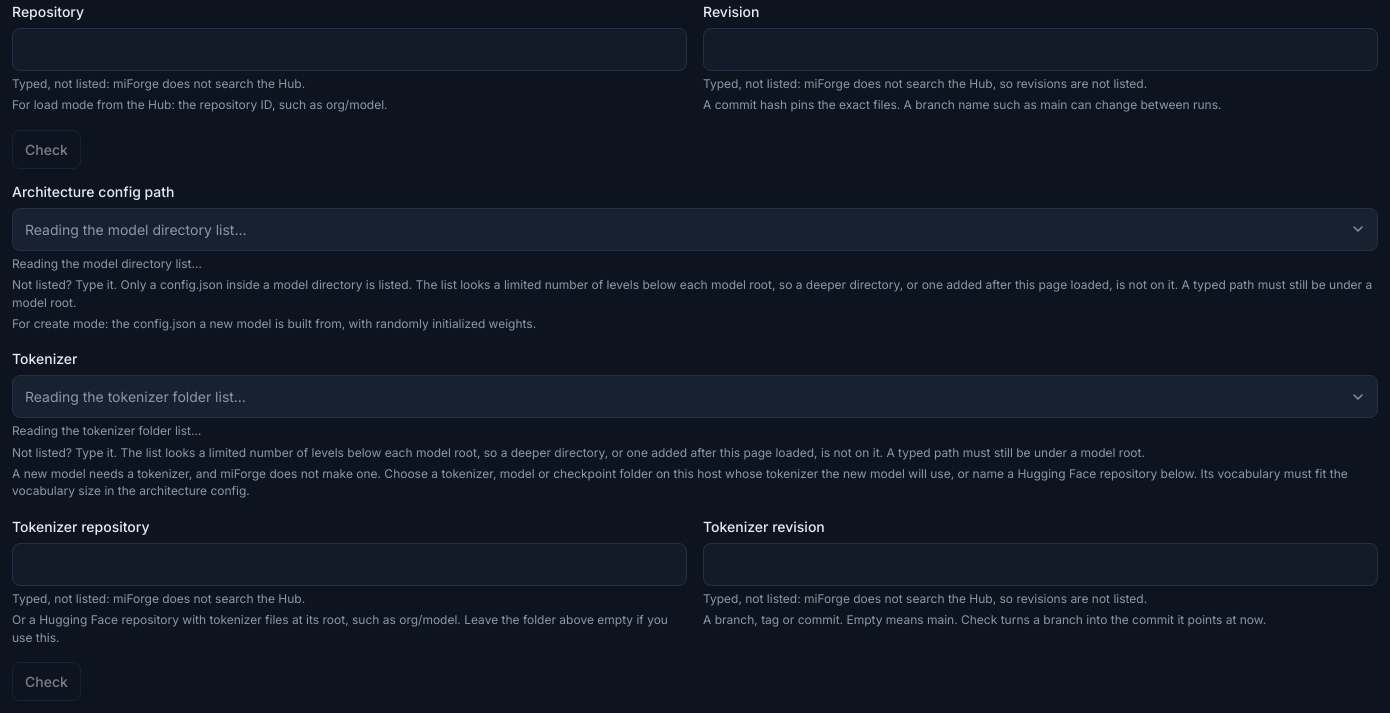
Test case: [ModelSourceField] the tokenizer is asked for on a create, and only there › should resolve a Hub revision to its commit on Check, and pin it on request
(page scrolled)
Expected: the button with test id "tokenizer-hub-check-button" is disabled, [12,662,81,701]
Type " org/tok " into the field with test id "tokenizer-repo-input".
click(350, 564); type(" org/tok ")  # box [12,543,687,586]
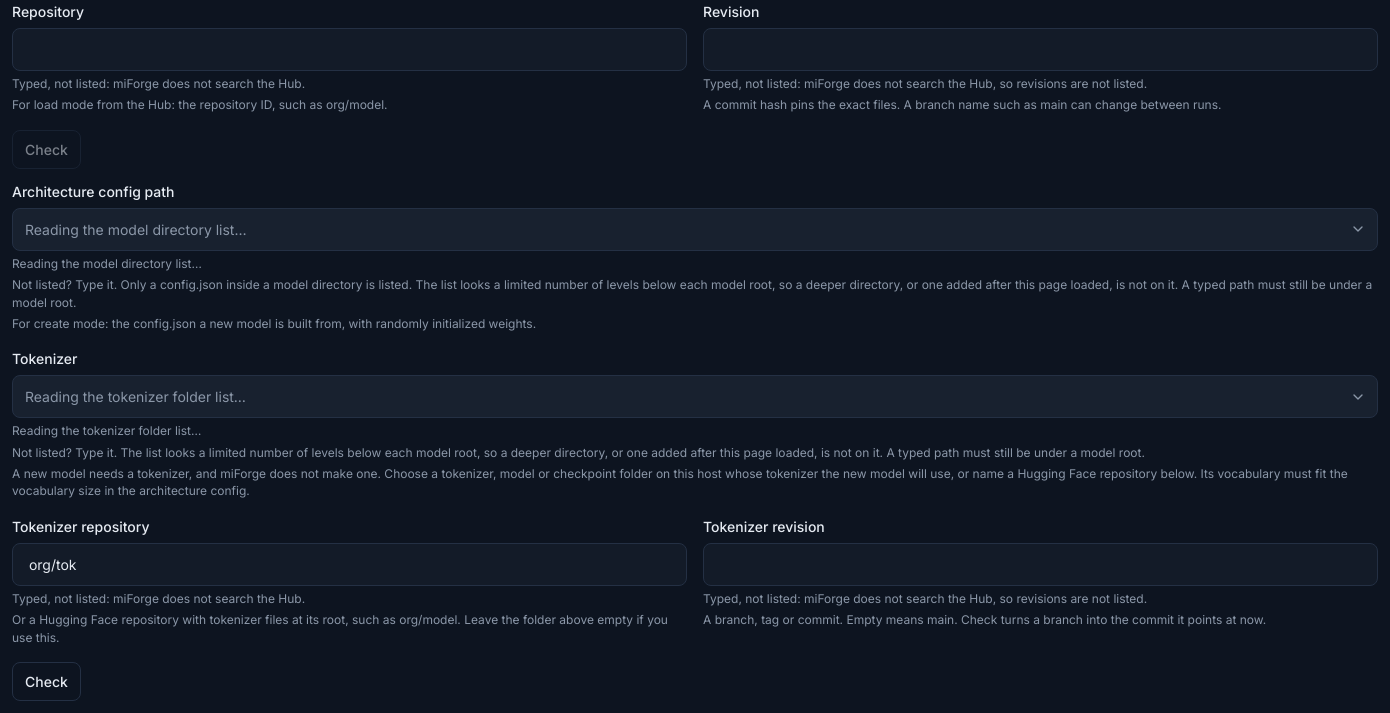
Type "main" into the field with test id "tokenizer-revision-input".
click(1040, 564); type("main")  # box [703,543,1378,586]
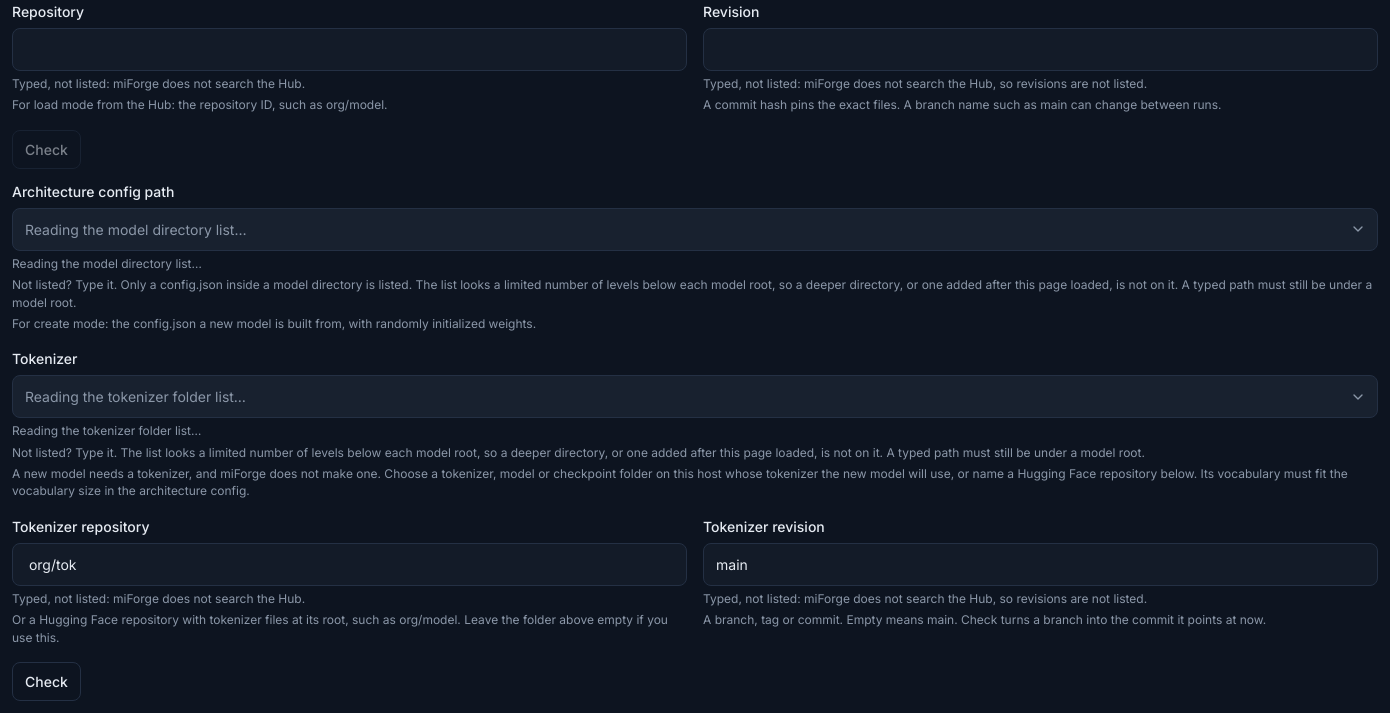
Click the button with test id "tokenizer-hub-check-button".
click(46, 682)  # box [12,662,81,701]
(page scrolled)
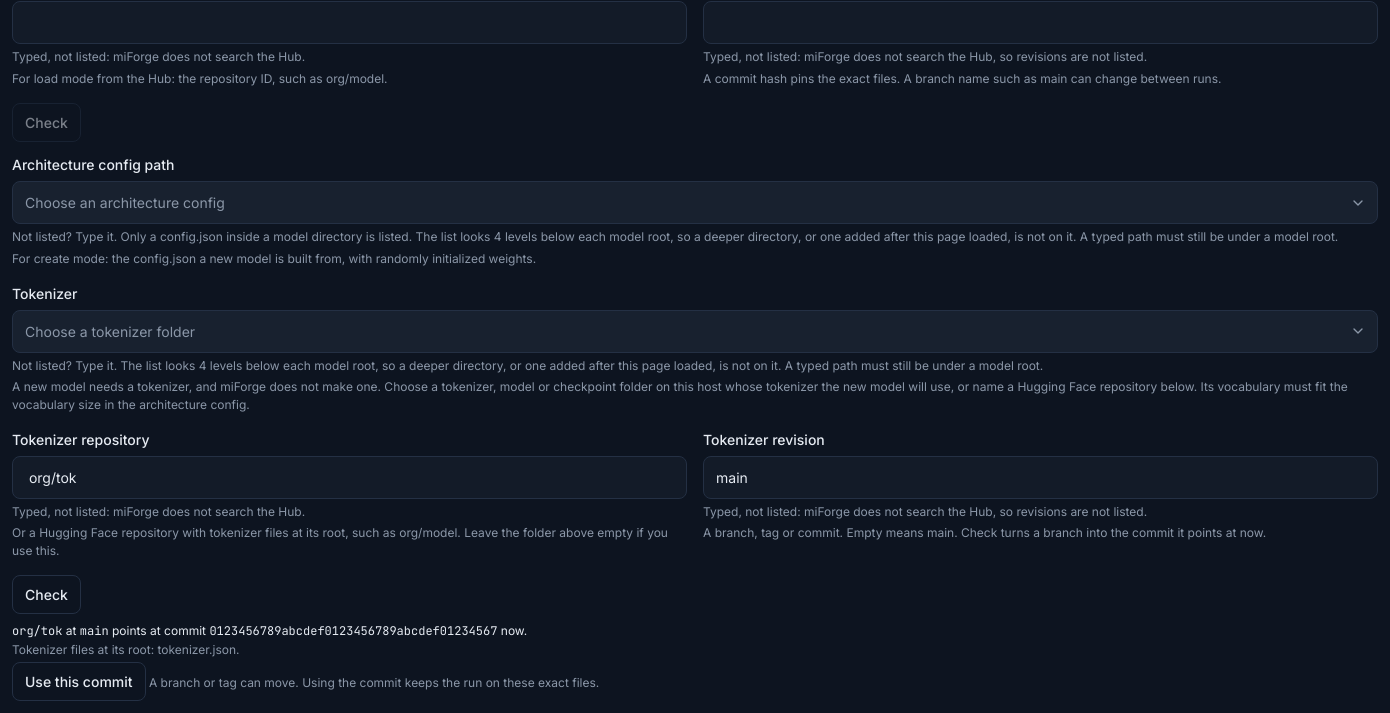
Now the element with test id "tokenizer-hub-check-answer" shows "Tokenizer files at its root: tokenizer.json.", box [12,623,599,701]
Click the button with test id "tokenizer-hub-check-pin".
click(79, 682)  # box [12,662,146,701]
(page scrolled)
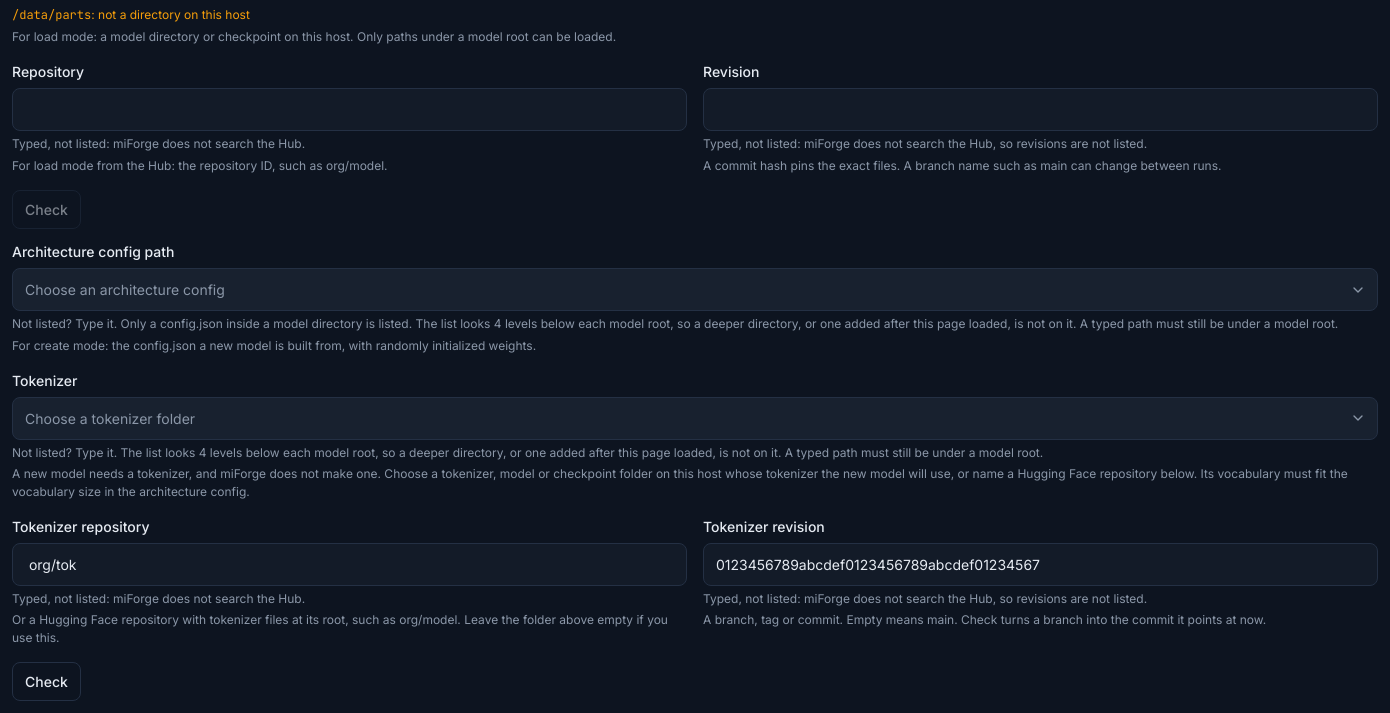
Now the field with test id "tokenizer-revision-input" holds "0123456789abcdef0123456789abcdef01234567", box [703,543,1378,586]
Now the element with test id "tokenizer-hub-check-answer" is gone
